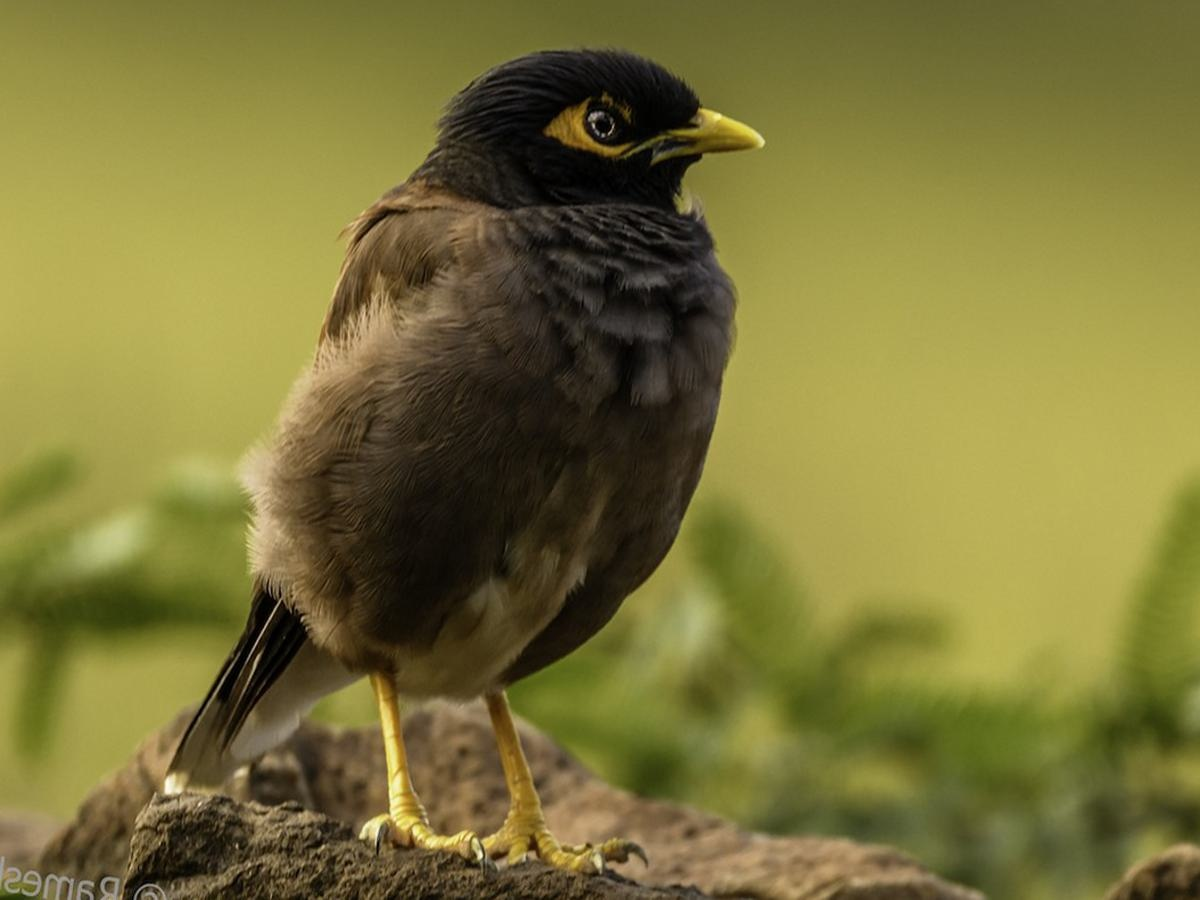myna: (197, 42, 796, 805)
